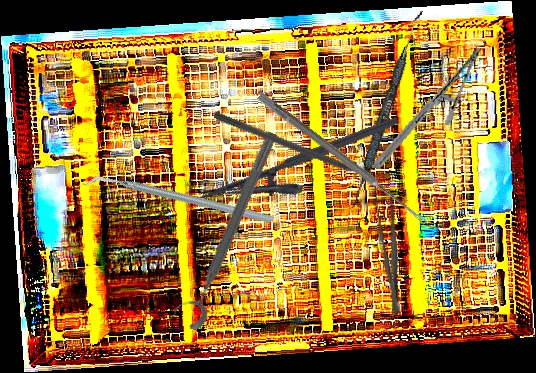Chopper: (81, 112, 276, 289)
Dressing Forceps: (370, 182, 408, 317)
Fixation Ring: (168, 124, 284, 333)
Needle Holder: (200, 115, 410, 227), (370, 31, 485, 185)
Pusher: (212, 111, 382, 187)
Spatula Surgical: (350, 7, 423, 211)
Surgical Spoon: (256, 92, 429, 226)
